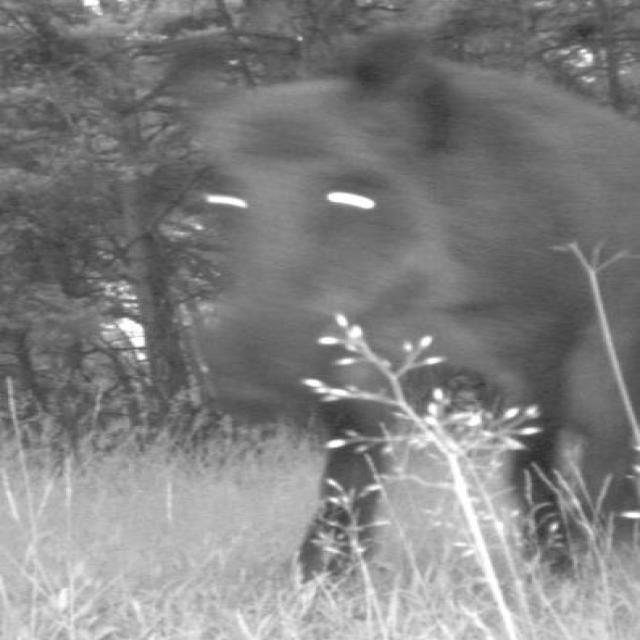pig: (153, 0, 640, 606)
